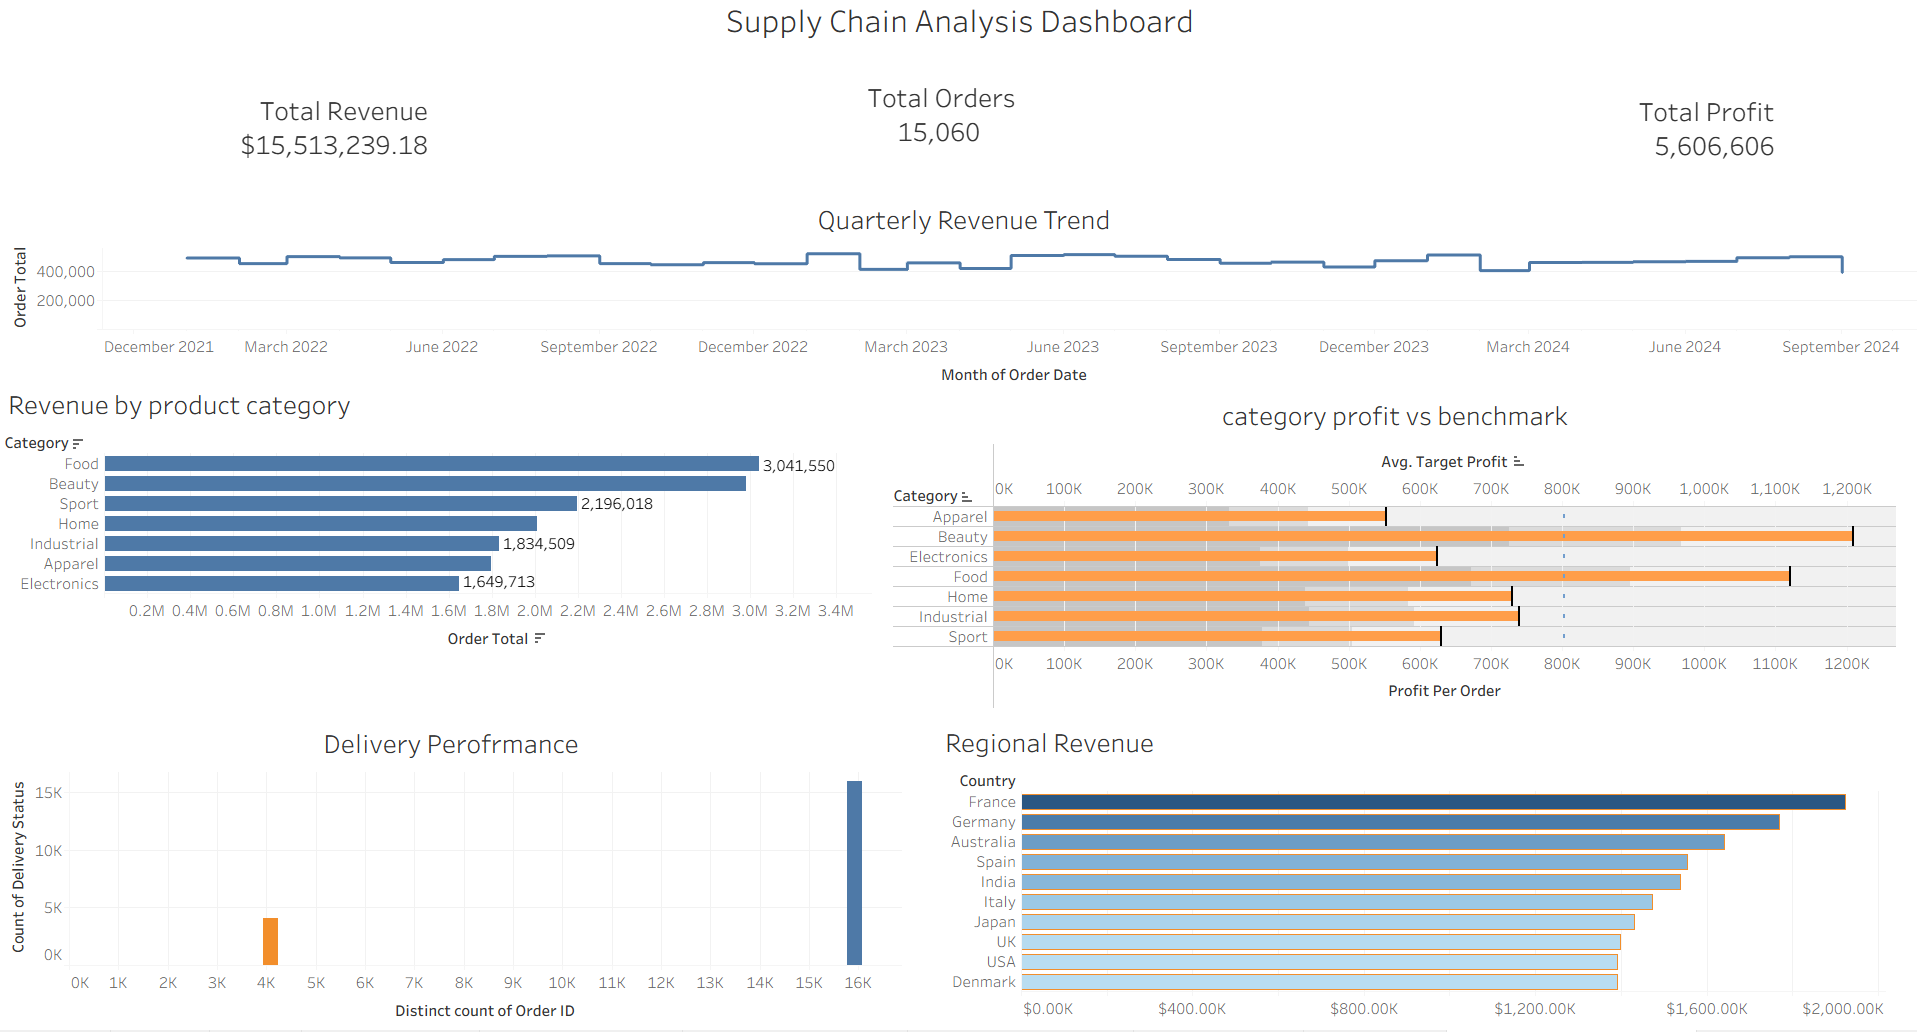

The dashboard page shown, as its layout file describes it:
{"tool":"tableau","page":{"name":"Supply Chain Analysis Dashboard","canvas":[1000,1000],"units":"permille","ordinal":0},"visuals":[{"type":"title","box":[4.9,9.8,990.2,61.2]},{"type":"worksheet","title":"total orders","mark":"Automatic","box":[379.6,74.7,218.7,122.4]},{"type":"worksheet","title":"total revenue","mark":"Automatic","box":[1,87.5,224,128.8]},{"type":"worksheet","title":"total profit","mark":"Automatic","box":[752.5,88.1,173.2,127.3]},{"type":"worksheet","title":"Monthly revenue trend","mark":"Line","rows":["Order_Total"],"cols":["Order_Date"],"box":[1.2,202,1001.8,186.1]},{"type":"worksheet","title":"Revenue by product category","mark":"Automatic","rows":["Category"],"cols":["Order_Total"],"box":[1.8,379.4,452.1,328]},{"type":"worksheet","title":"category profit vs benchmark","mark":"Bar","rows":["Category"],"cols":["Profit_Per_Order","Calculation_1025607197962241"],"box":[465,390.4,522.7,303.6]},{"type":"worksheet","title":"Delivery Perofrmance","mark":"Bar","rows":["Delivery_Status"],"cols":["Order_ID"],"box":[0,705,469.9,293.8]}]}

Visuals, with their boxes on the dashboard's canvas, which has no fixed pixel size, in thousandths of its width and height (x1, y1, x2, y2). These are canvas units, not pixel positions in the 1917x1032 screenshot, which may show the page scaled, cropped or inside an application window:
title: l=5, t=10, r=995, b=71
"total orders" worksheet: l=380, t=75, r=598, b=197
"total revenue" worksheet: l=1, t=88, r=225, b=216
"total profit" worksheet: l=752, t=88, r=926, b=215
"Monthly revenue trend" worksheet (Line marks): l=1, t=202, r=1003, b=388
"Revenue by product category" worksheet: l=2, t=379, r=454, b=707
"category profit vs benchmark" worksheet (Bar marks): l=465, t=390, r=988, b=694
"Delivery Perofrmance" worksheet (Bar marks): l=0, t=705, r=470, b=999
